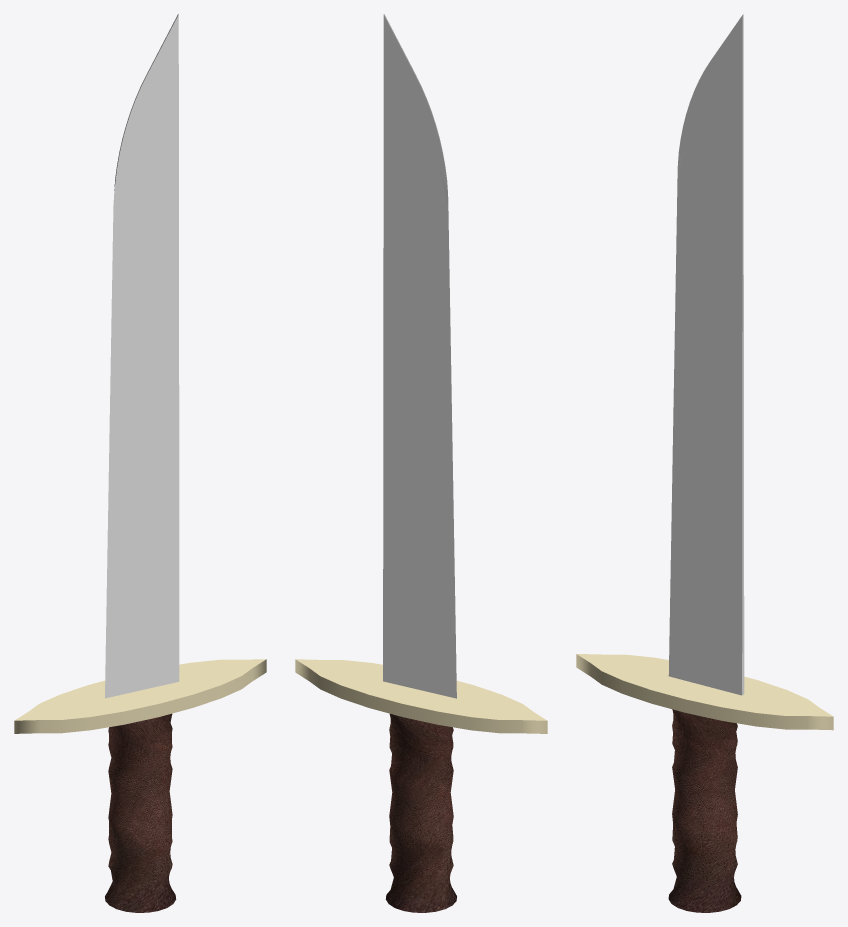
The model's file is Sword.fbx.
The picture shows the model from 3 angles, left to right: view 1: azimuth 30°, elevation 25°; view 2: azimuth 150°, elevation 25°; view 3: azimuth 330°, elevation 25°; orthographic projection. The views are drawn at different scales.
Visible parts, largest first — view 1: pCube1, pCylinder1; view 2: pCube1, pCylinder1; view 3: pCube1, pCylinder1.
Boxes of the visible parts, bbox=[...] form: pCube1: bbox=[105, 14, 179, 698]; pCylinder1: bbox=[14, 659, 266, 912]; pCube1: bbox=[383, 14, 456, 698]; pCylinder1: bbox=[295, 659, 547, 912]; pCube1: bbox=[668, 14, 744, 695]; pCylinder1: bbox=[576, 654, 833, 912].
Bounding box in the file's own units: 8.11 × 26.87 × 2.11.
